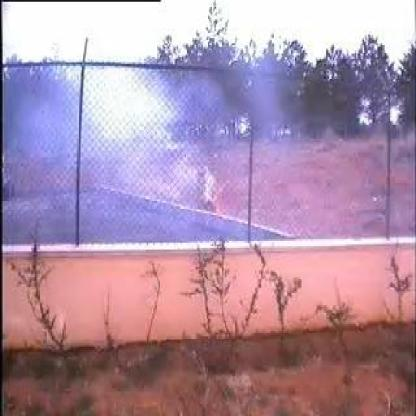-: (44, 65, 270, 237)
